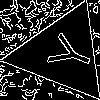Y: (37, 28, 97, 77)
